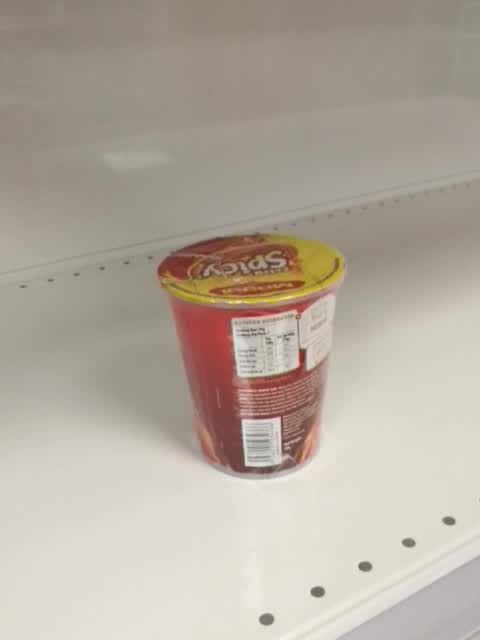maggi: (156, 234, 346, 481)
